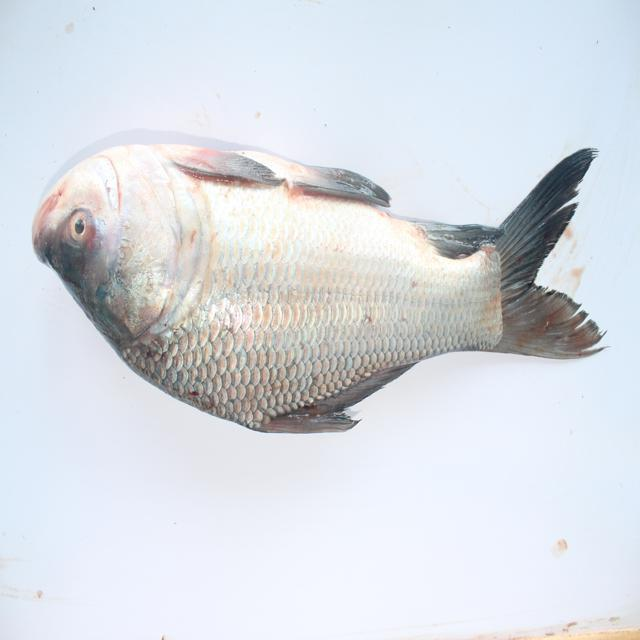Catla: (7, 135, 615, 435)
